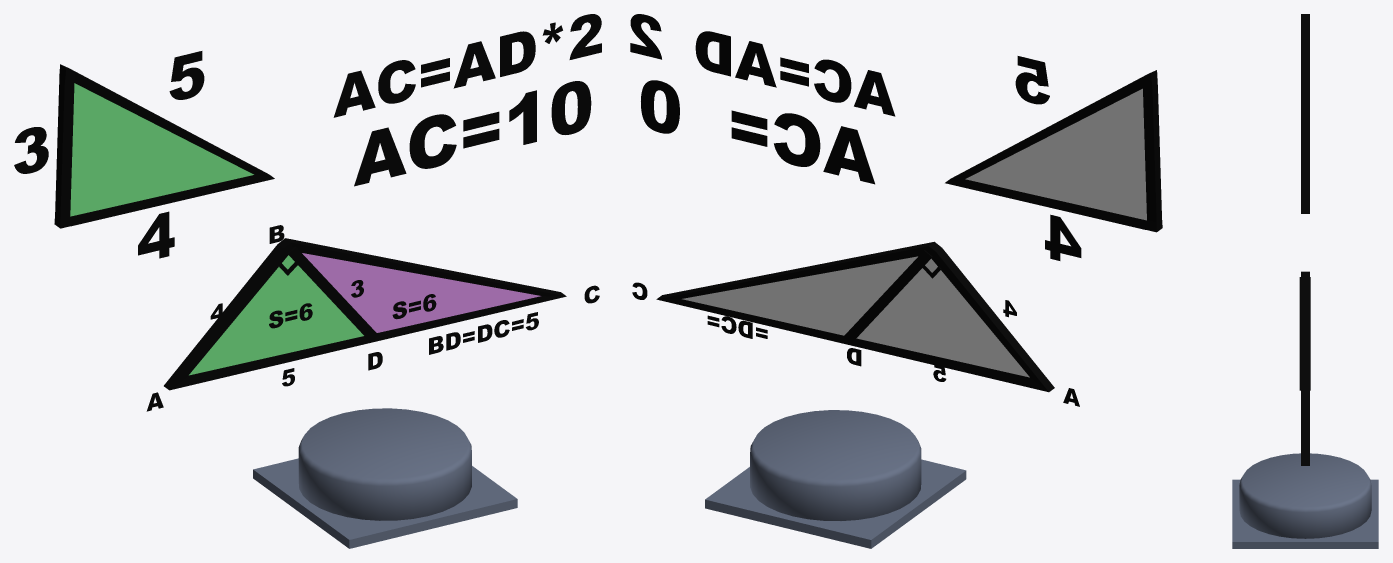
3 views of the same model, side by side, from view 1: azimuth 30°, elevation 25°; view 2: azimuth 150°, elevation 25°; view 3: azimuth 270°, elevation 25° (orthographic). The views are drawn at different scales.
Parts seen in each view (by area): view 1: Cube.006, Cube.007, Cylinder, Cube, Text.016, Text.015, Cube.001, Text.013, Text.011, Text.010, Text.009; view 2: Cube.006, Cube.007, Cylinder, Cube, Text.015, Text.016, Cube.001, Text.011, Text.010; view 3: Cylinder, Cube, Cube.007, Cube.006, Cube.001.
Part boxes in pixels (left/top/right/bottom): Cube.006: left=164, top=238, right=566, bottom=390; Cube.007: left=54, top=64, right=274, bottom=228; Cylinder: left=298, top=408, right=471, bottom=520; Cube: left=253, top=458, right=517, bottom=548; Text.016: left=354, top=81, right=591, bottom=186; Text.015: left=333, top=14, right=601, bottom=117; Cube.001: left=287, top=246, right=378, bottom=341; Text.013: left=429, top=312, right=538, bottom=354; Text.011: left=169, top=51, right=204, bottom=99; Text.010: left=138, top=211, right=174, bottom=258; Text.009: left=14, top=127, right=48, bottom=173; Cube.006: left=656, top=241, right=1054, bottom=392; Cube.007: left=945, top=70, right=1162, bottom=232; Cylinder: left=750, top=410, right=921, bottom=520; Cube: left=705, top=459, right=966, bottom=548; Text.015: left=630, top=14, right=895, bottom=116; Text.016: left=641, top=80, right=874, bottom=184; Cube.001: left=843, top=250, right=932, bottom=343; Text.011: left=1015, top=56, right=1049, bottom=104; Text.010: left=1045, top=214, right=1081, bottom=260; Cylinder: left=1239, top=453, right=1371, bottom=538; Cube: left=1232, top=479, right=1378, bottom=548; Cube.007: left=1301, top=14, right=1309, bottom=213; Cube.006: left=1301, top=271, right=1309, bottom=465; Cube.001: left=1299, top=277, right=1310, bottom=390.
Bounding box in the file's own units: 31.8 × 26.29 × 9.09.
